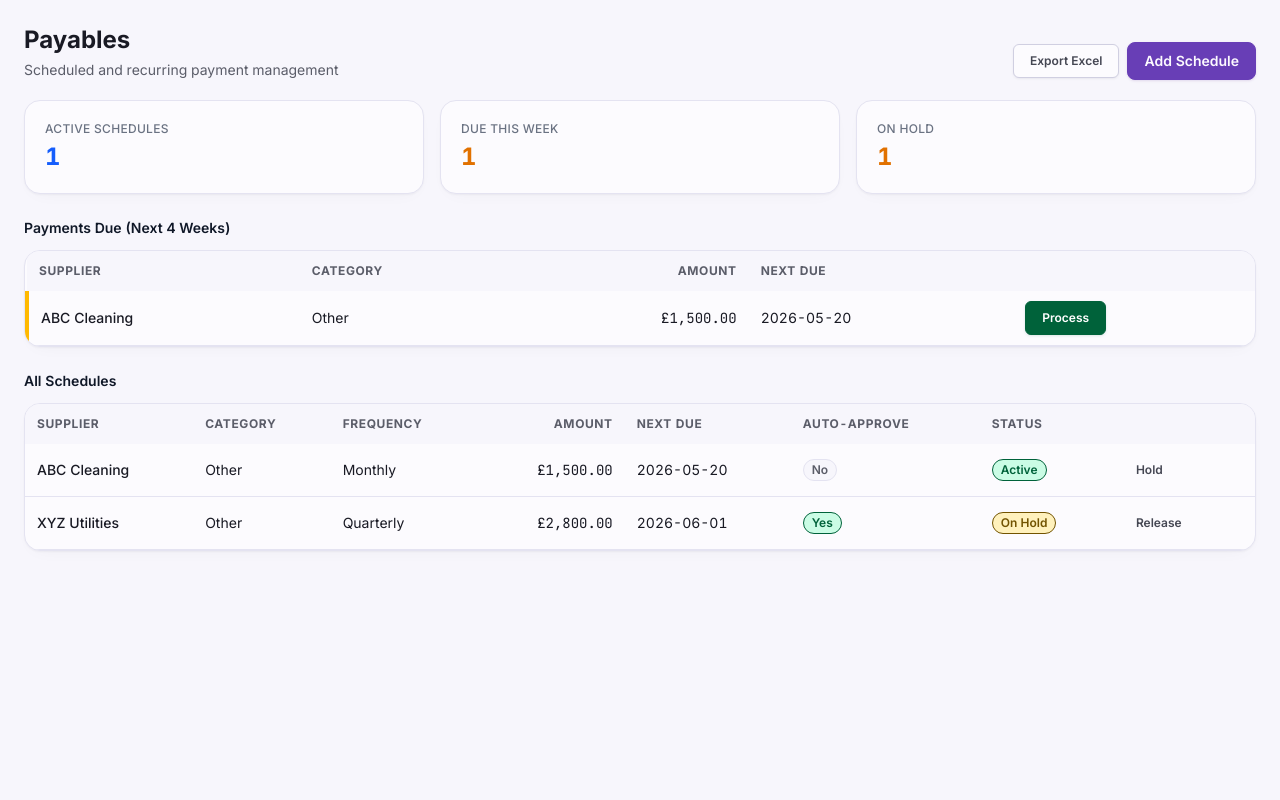
Test: PayablesManager › keeps payment schedule validation inside the modal
The width and height of the screenshot is (1280, 800).
Click the button "Add Schedule" at point(1192, 61), box [1127,42,1256,80]
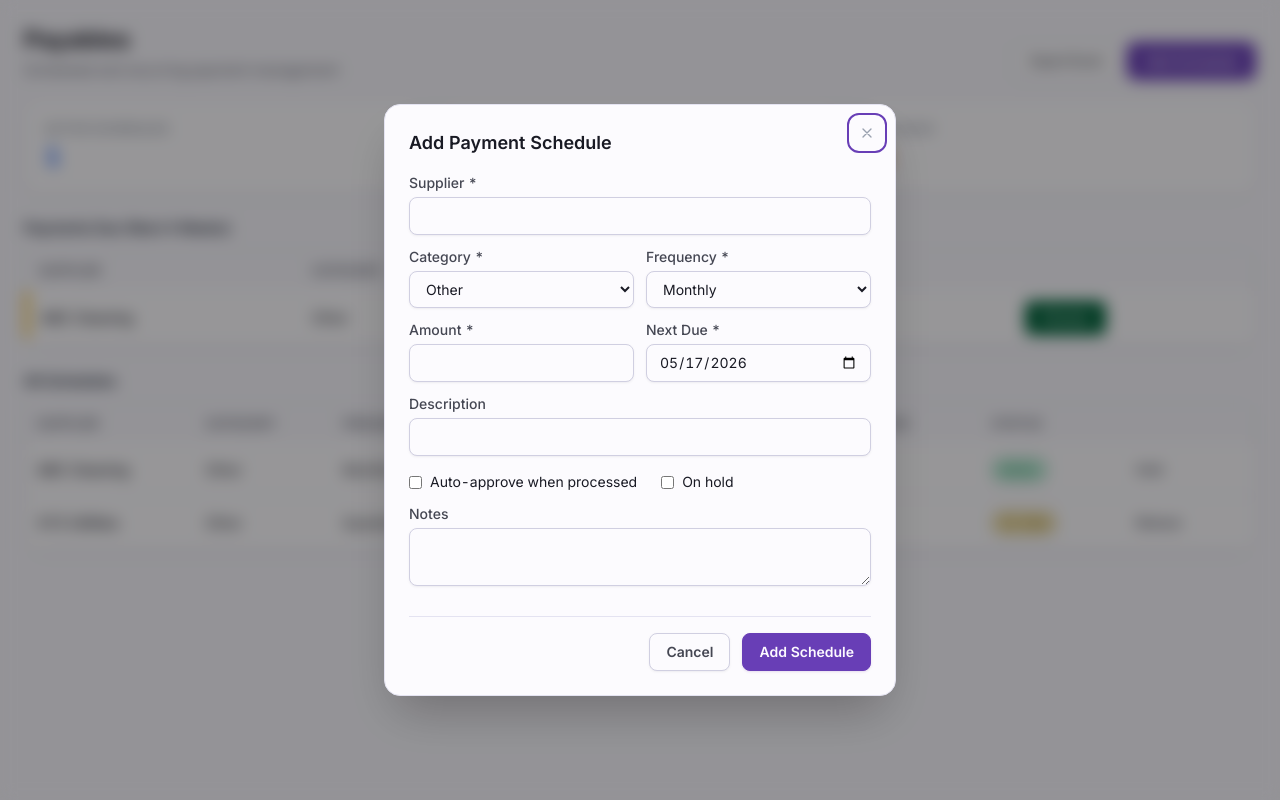
Click the button "Add Schedule" at point(807, 652), box [742,633,871,671]
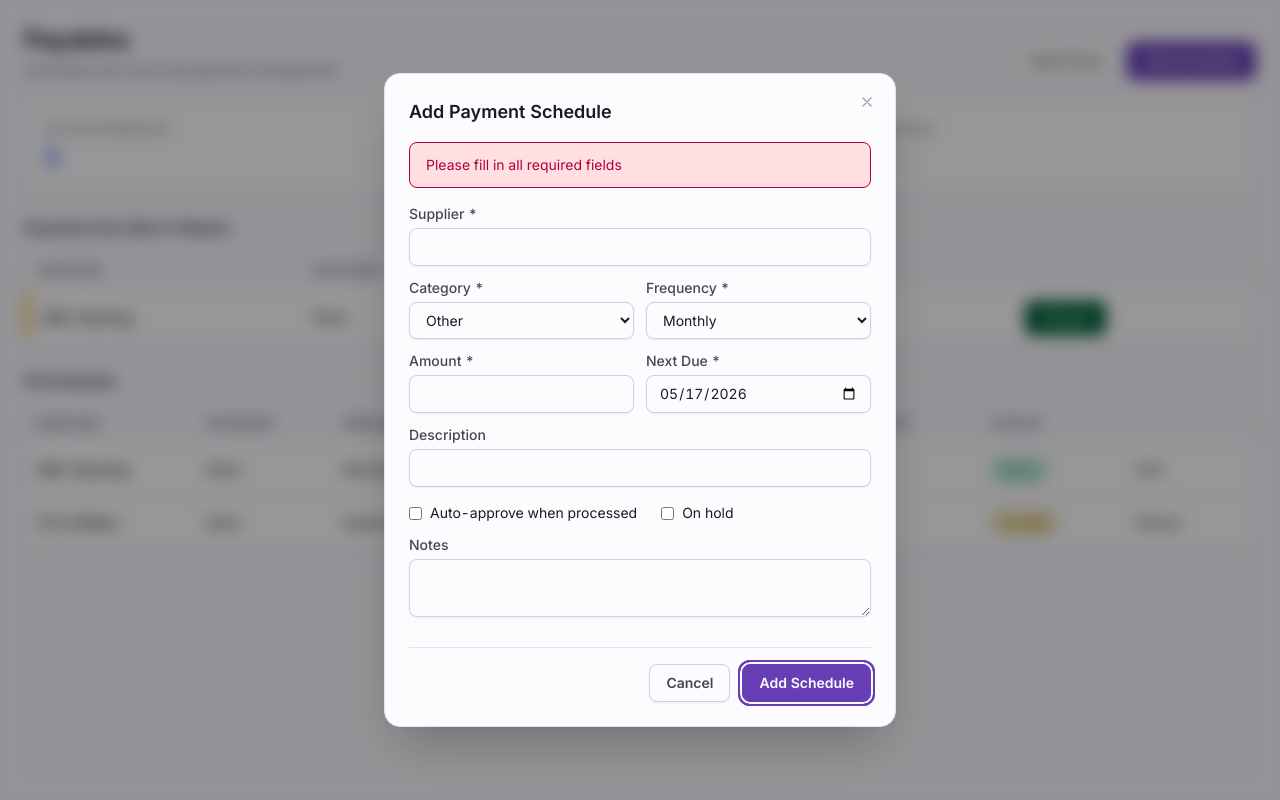
Expected: the text "Please fill in all required fields" is shown, [426,155,622,175]
